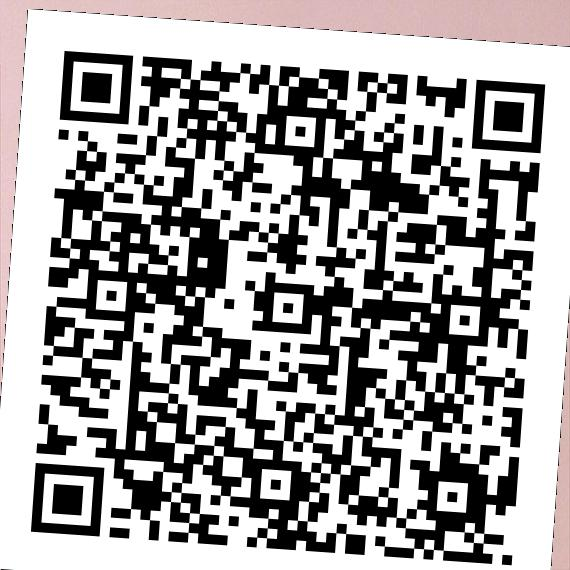qr_code: (0, 5, 569, 570)
